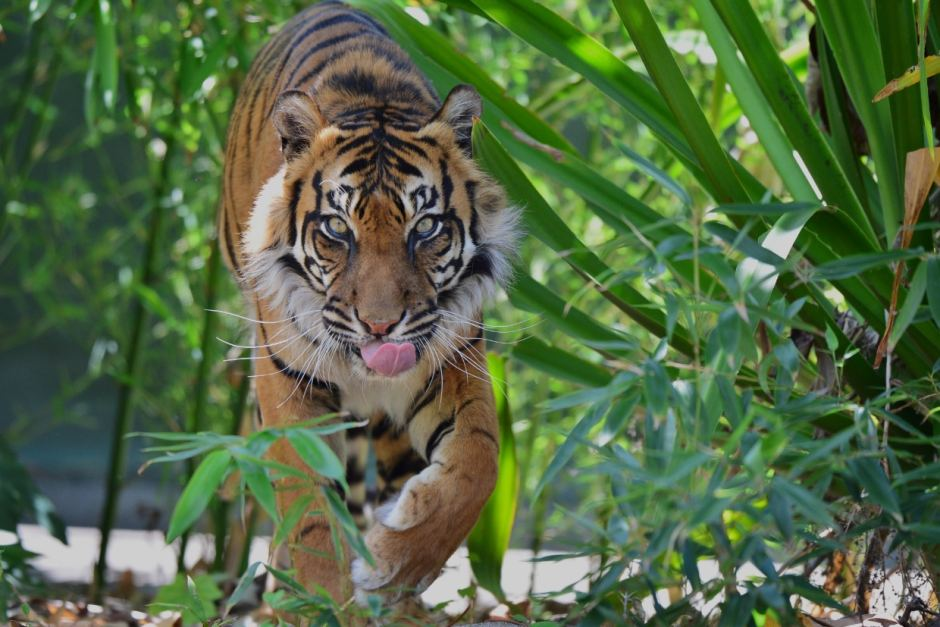Tiger: (208, 5, 547, 616)
